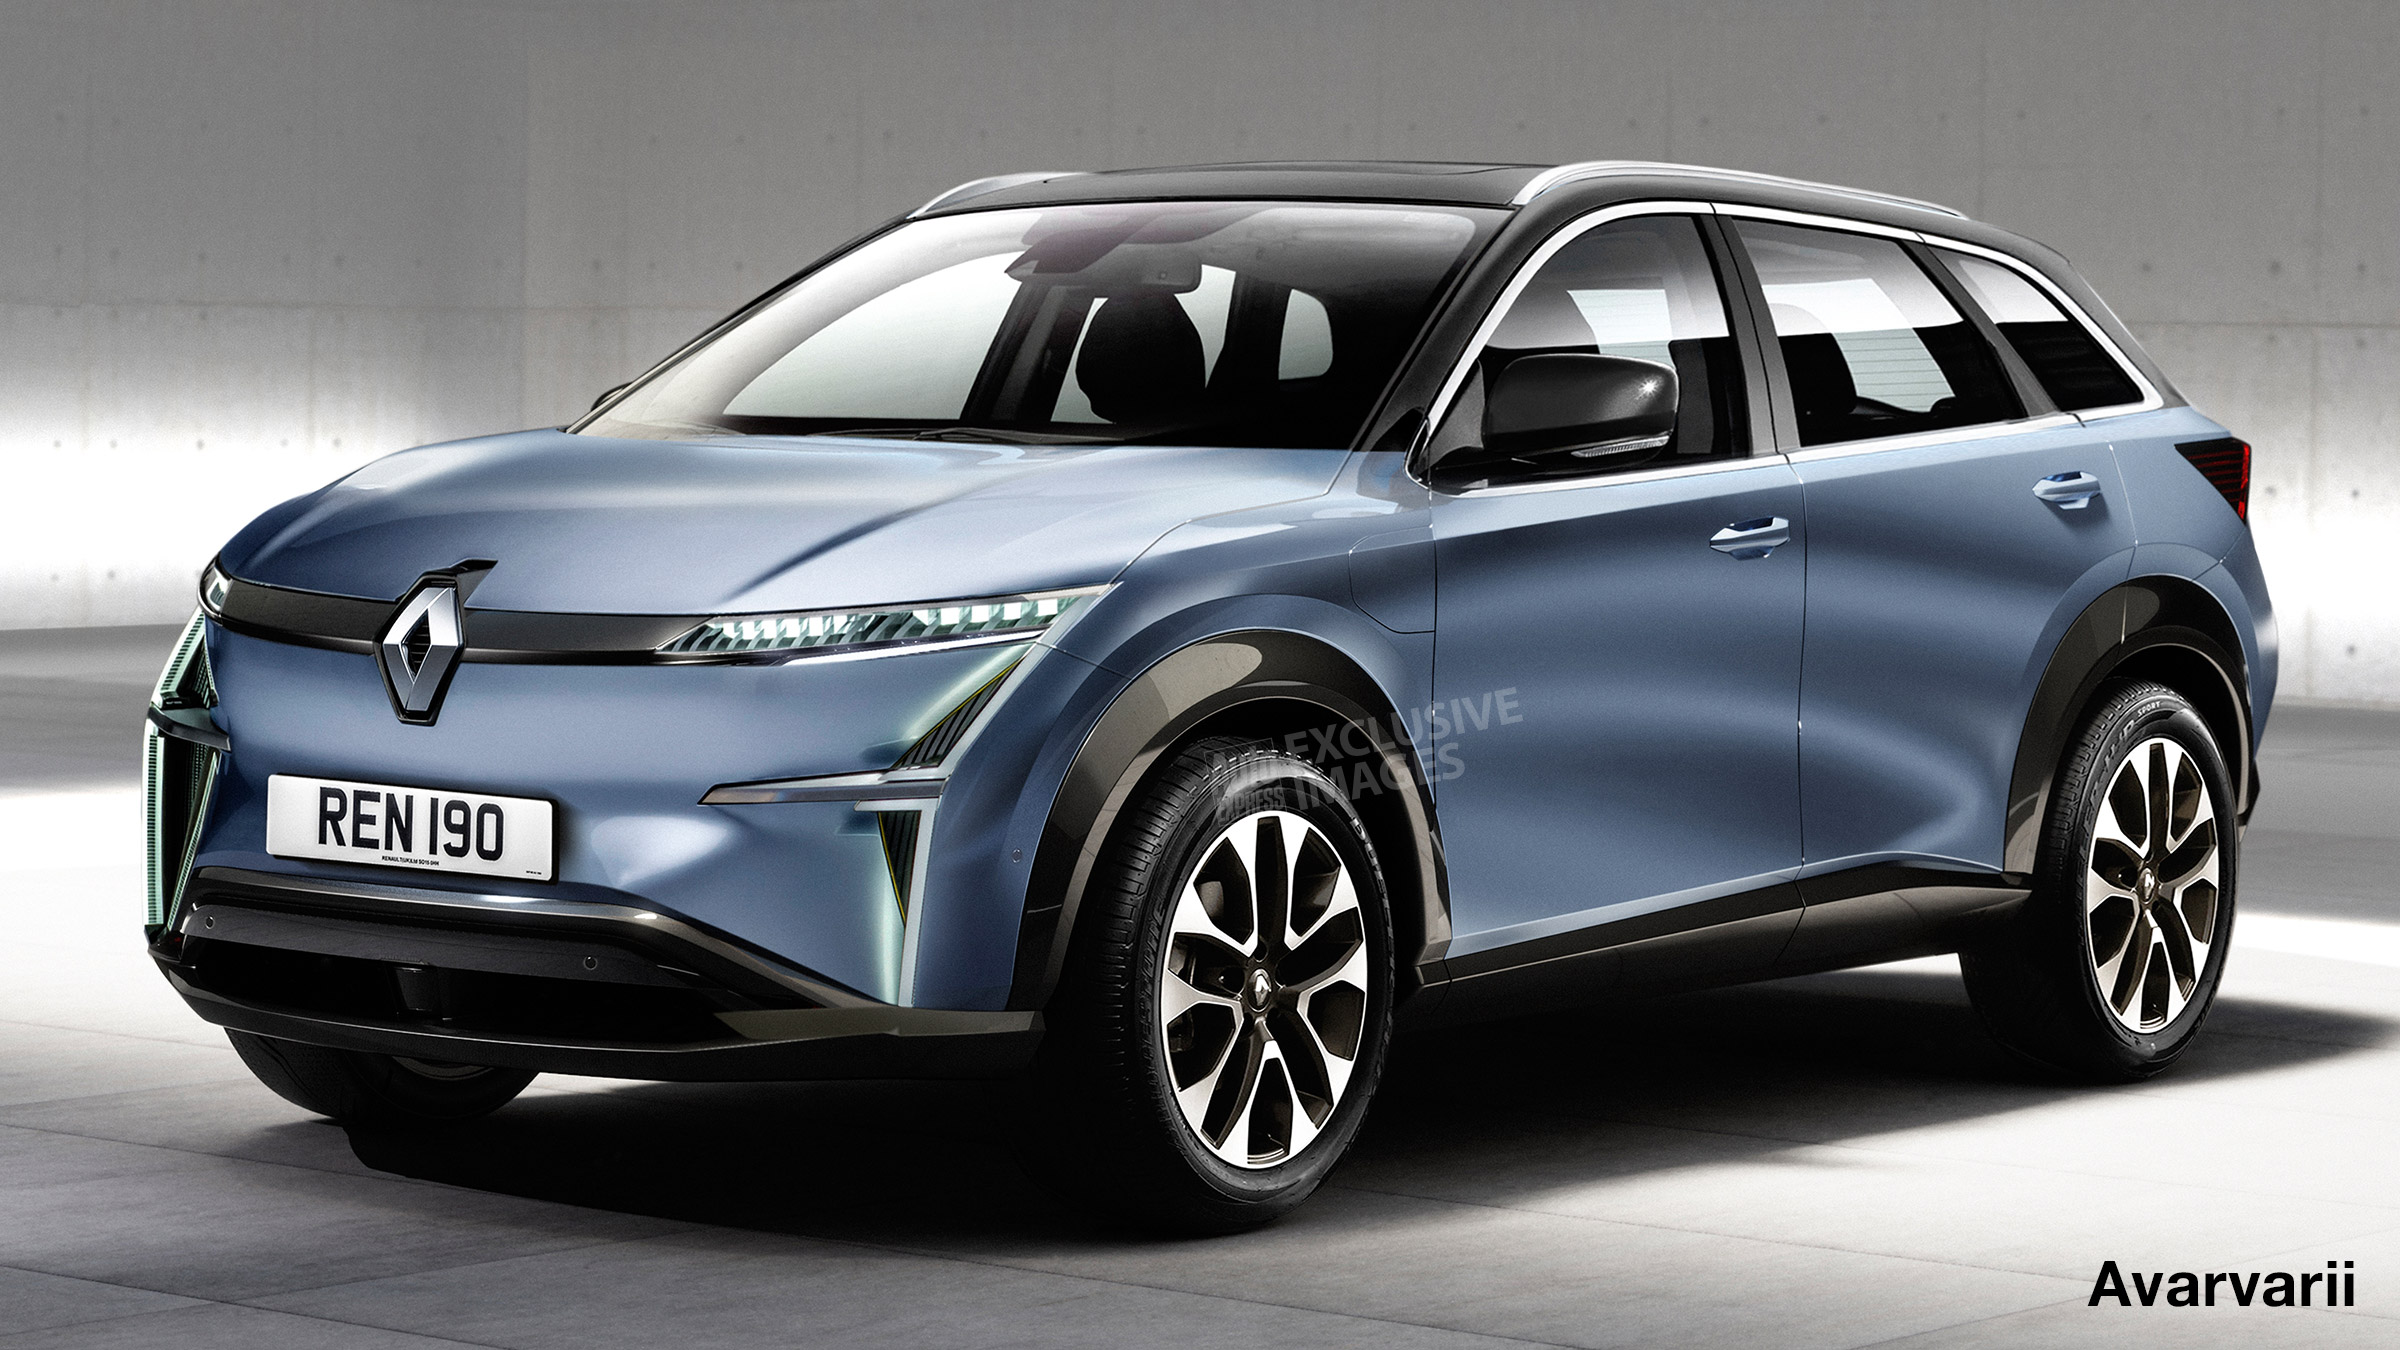car: (140, 162, 2280, 1223)
